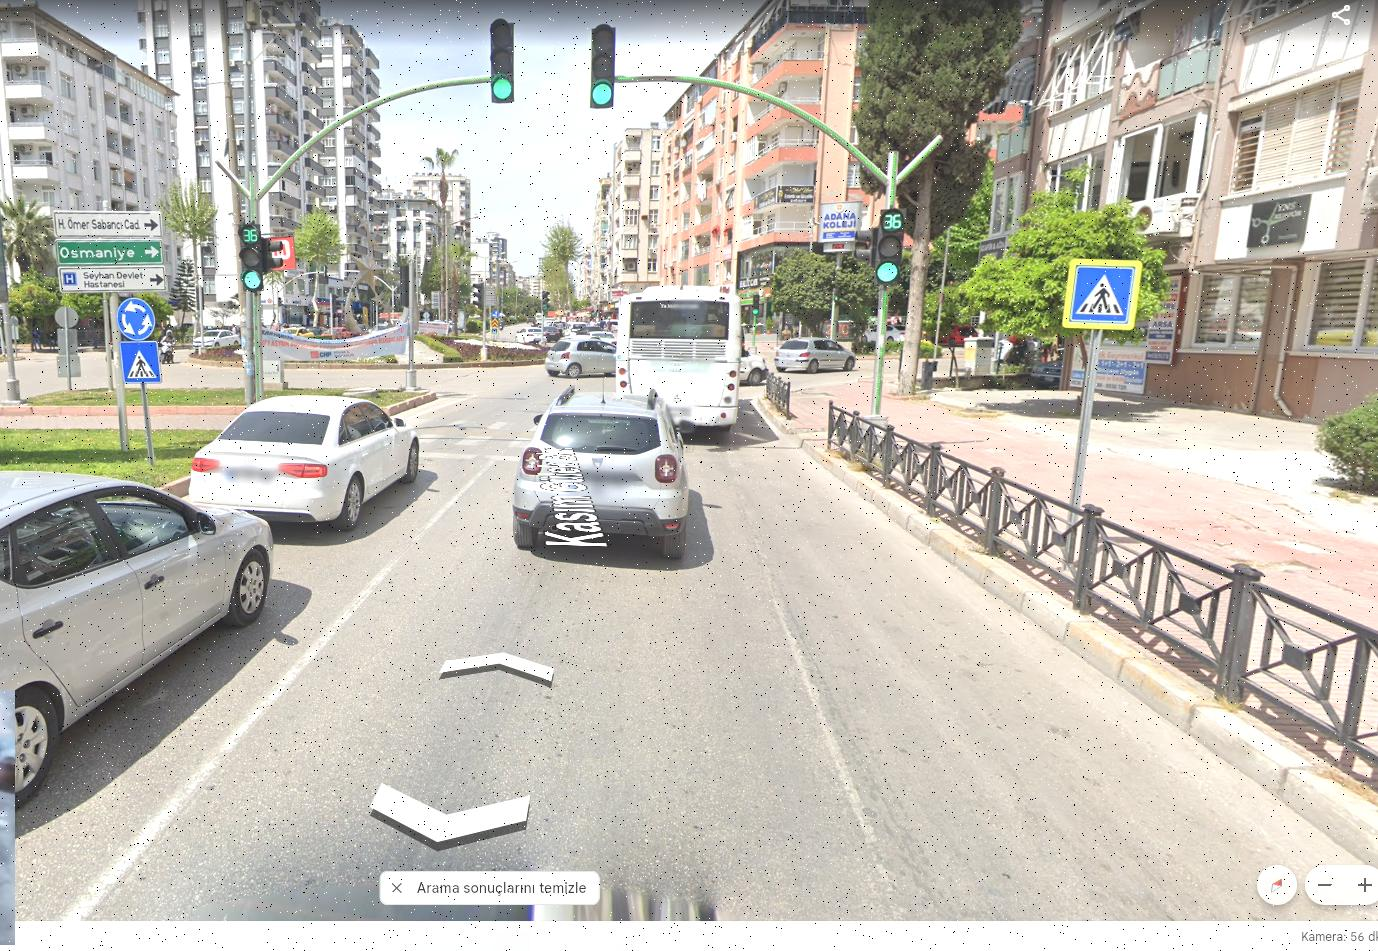greenlight: (875, 207, 909, 292), (588, 25, 618, 112), (491, 22, 513, 107), (242, 220, 265, 289), (116, 296, 155, 337)
